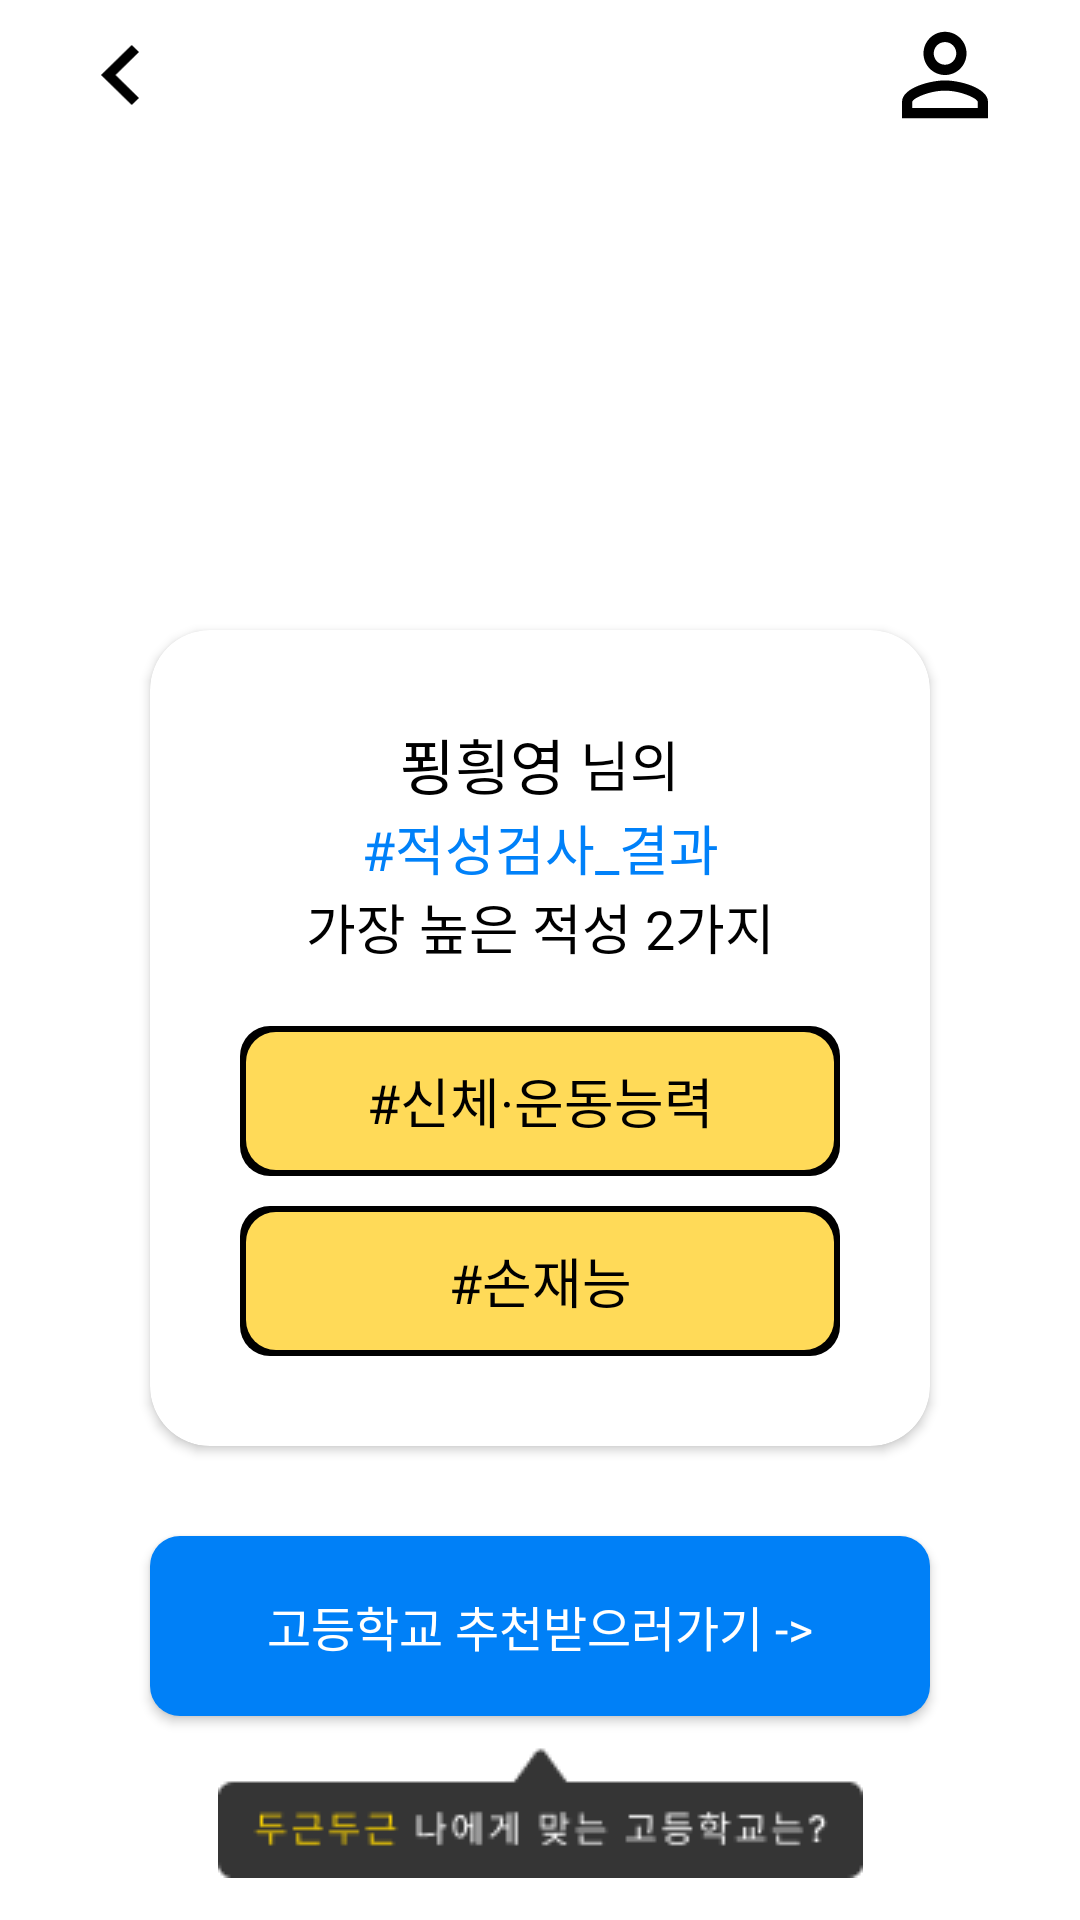

Icon bounding boxes for this 1080*1920 phone screenshot, format (x1, y1, x2, y2):
back arrow: (101, 45, 139, 105)
